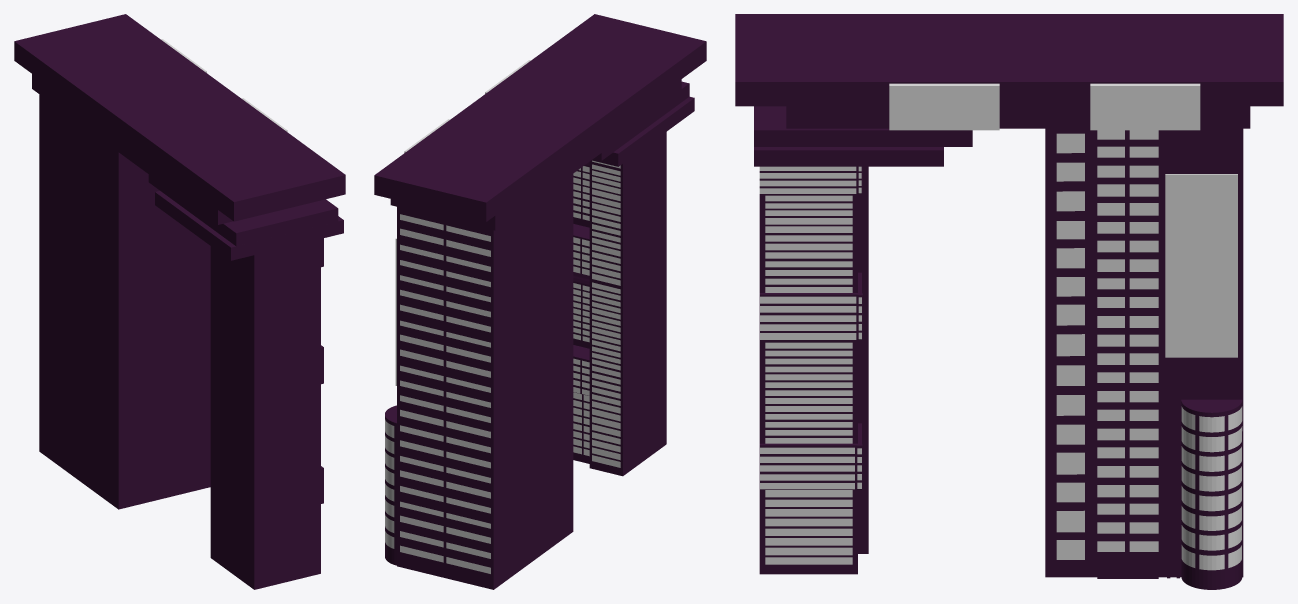
File: building_03_15_2022.fbx
The picture shows the model from 3 angles, left to right: view 1: azimuth 30°, elevation 25°; view 2: azimuth 150°, elevation 25°; view 3: azimuth 270°, elevation 25°; orthographic projection. The views are drawn at different scales.
Visible parts, largest first — view 1: Cube.005, Cube.004, Cube, Cube.002, Cube.001, Cube.003; view 2: Cube.005, Cube, Cube.004, Cube.001, Cylinder, Cube.003, Cube.002; view 3: Cube.005, Cube, Cube.004, Cube.009, Cylinder, Cube.001, Cube.006, Cube.007, Cube.002, Cube.003.
Boxes of the visible parts, bbox=[...] form: Cube.005: bbox=[39, 94, 210, 509]; Cube.004: bbox=[210, 238, 323, 589]; Cube: bbox=[14, 14, 345, 221]; Cube.002: bbox=[148, 174, 338, 246]; Cube.001: bbox=[32, 74, 232, 224]; Cube.003: bbox=[155, 191, 343, 260]; Cube.005: bbox=[397, 174, 573, 589]; Cube: bbox=[374, 14, 706, 221]; Cube.004: bbox=[573, 132, 666, 476]; Cube.001: bbox=[390, 79, 681, 230]; Cylinder: bbox=[385, 405, 396, 565]; Cube.003: bbox=[592, 96, 694, 166]; Cube.002: bbox=[593, 81, 689, 160]; Cube.005: bbox=[1045, 128, 1243, 578]; Cube: bbox=[735, 14, 1283, 106]; Cube.004: bbox=[759, 166, 868, 574]; Cube.009: bbox=[1165, 174, 1237, 357]; Cylinder: bbox=[1181, 399, 1242, 589]; Cube.001: bbox=[786, 106, 1250, 128]; Cube.006: bbox=[889, 83, 999, 130]; Cube.007: bbox=[1090, 83, 1200, 130]; Cube.002: bbox=[754, 106, 972, 146]; Cube.003: bbox=[754, 147, 943, 166].
Size of the model in its own units: 229 by 696 by 689.
